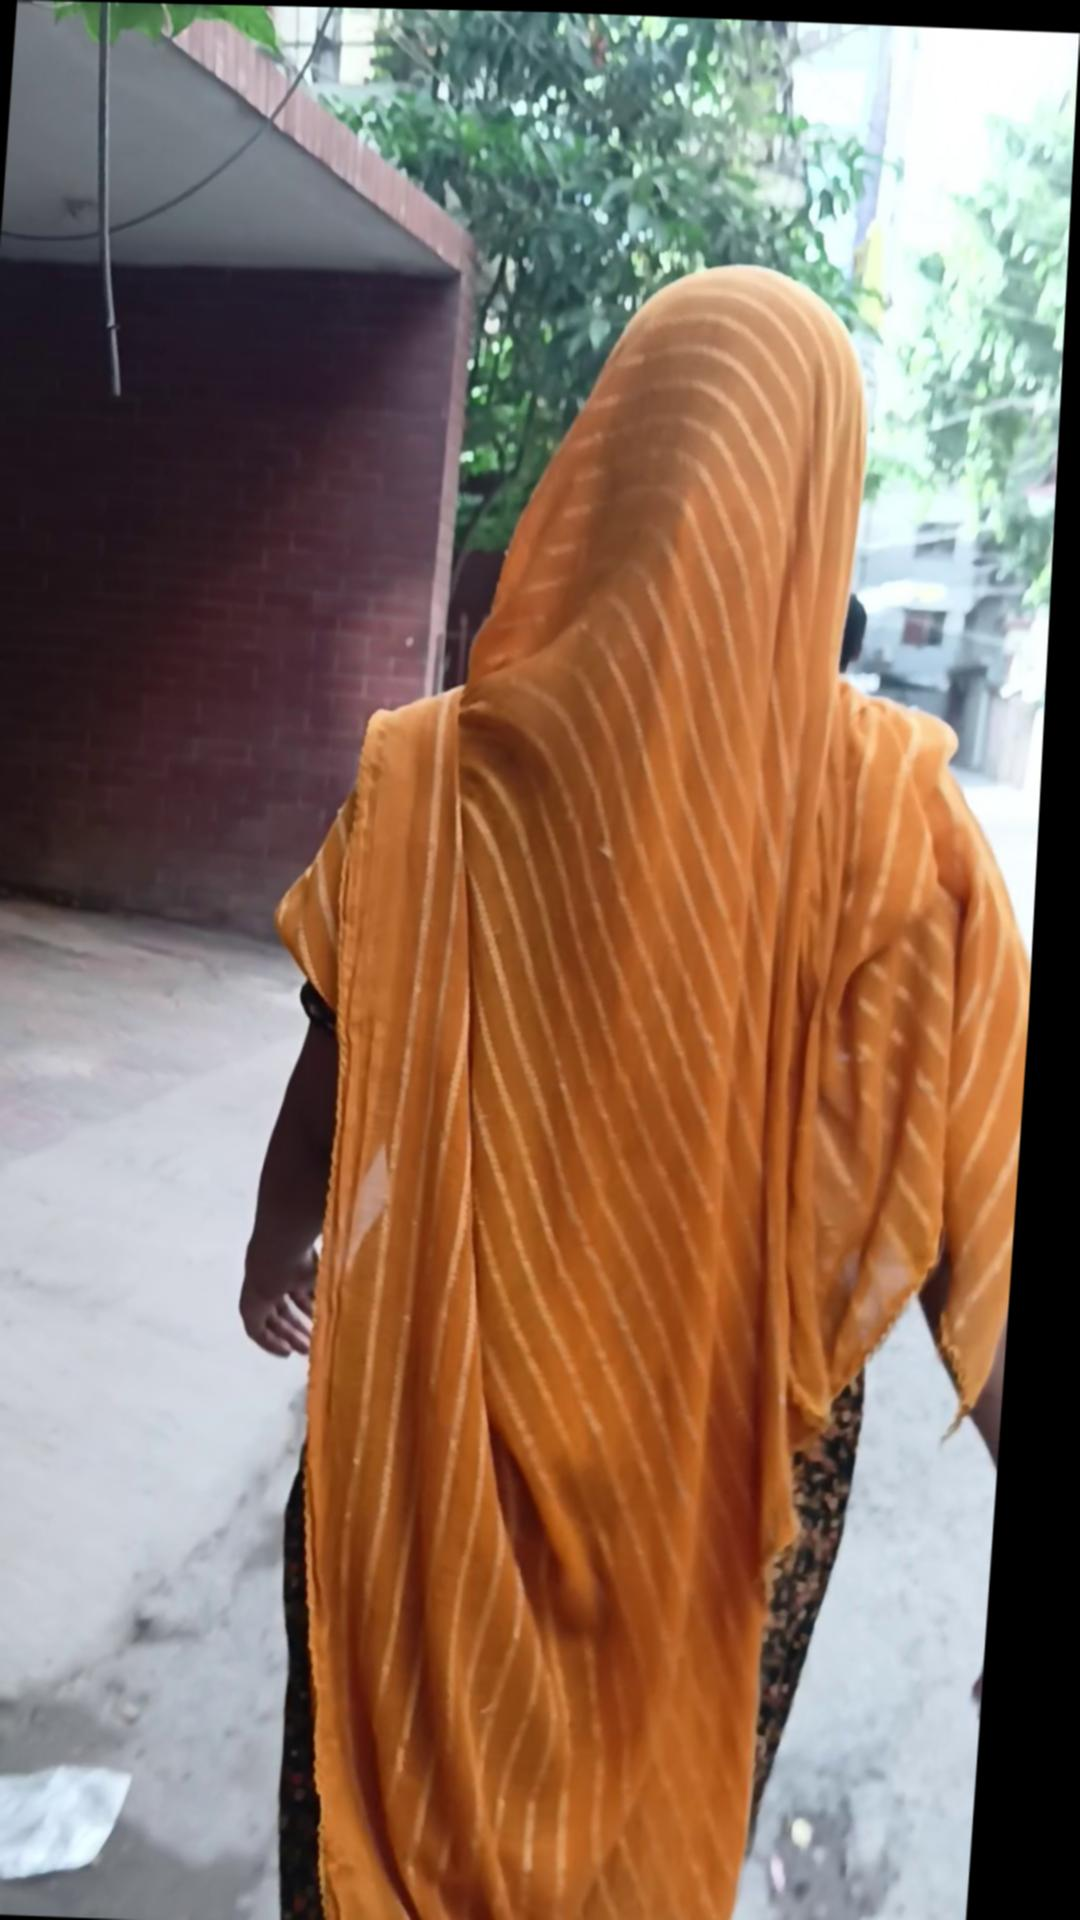Garbage: (0, 1712, 241, 1920)
Muddy road: (216, 243, 1071, 1920)
